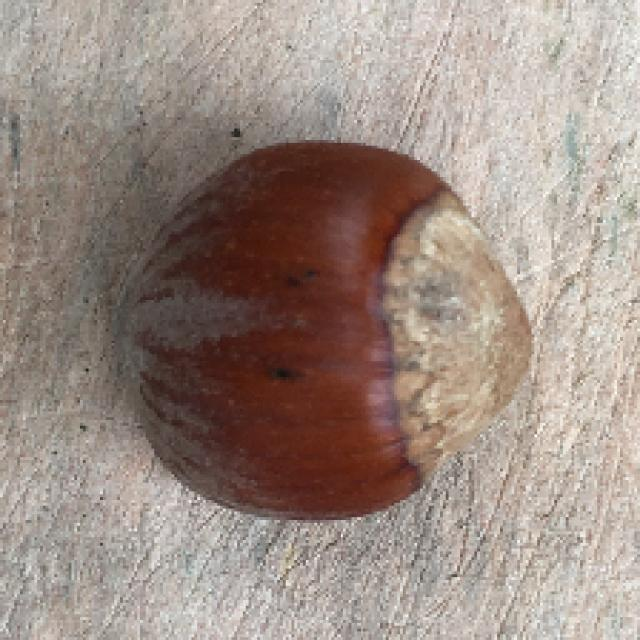qualityHazelnut: (110, 128, 542, 533)
